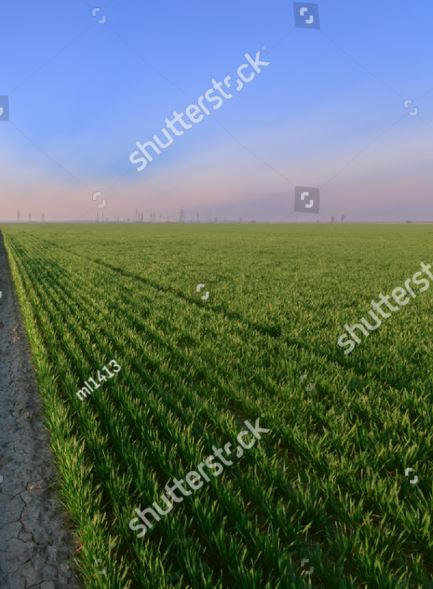Wheat: (81, 300, 391, 577)
